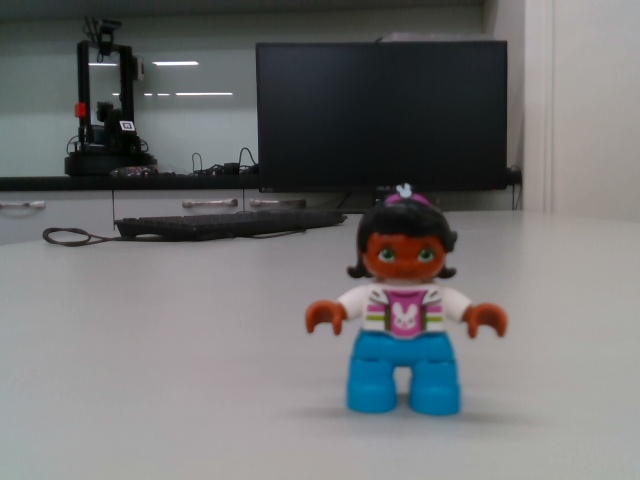people: (297, 184, 511, 418)
